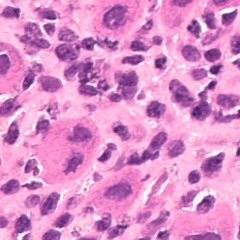New: (86, 164, 145, 214), (169, 206, 235, 240), (1, 41, 30, 96)
